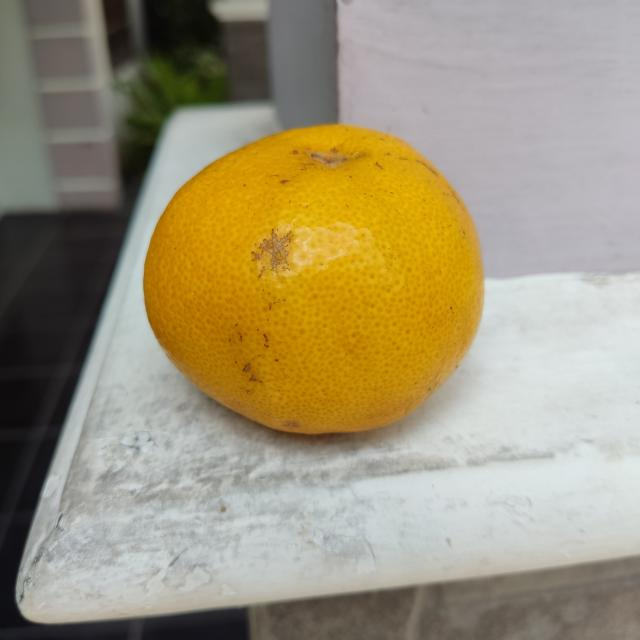orange: (138, 123, 486, 437)
